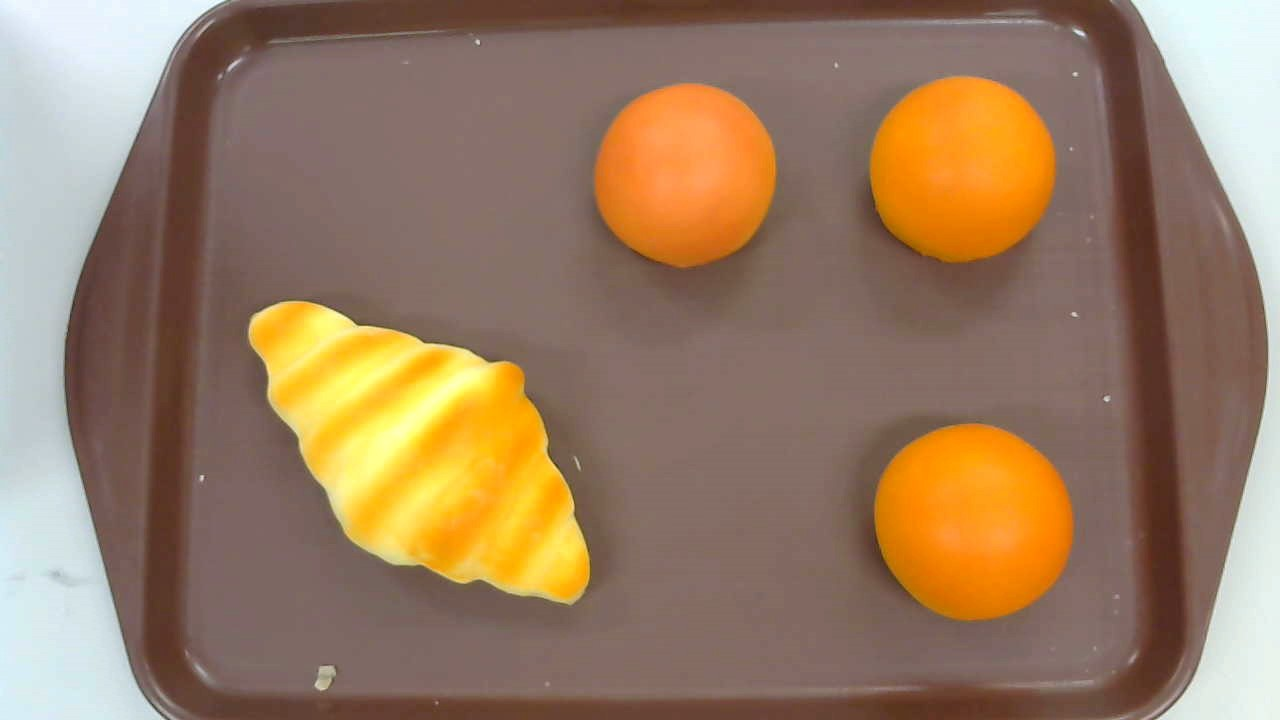bun: (872, 423, 1073, 622), (869, 74, 1057, 262), (592, 83, 777, 269)
croissant: (247, 300, 591, 605)
